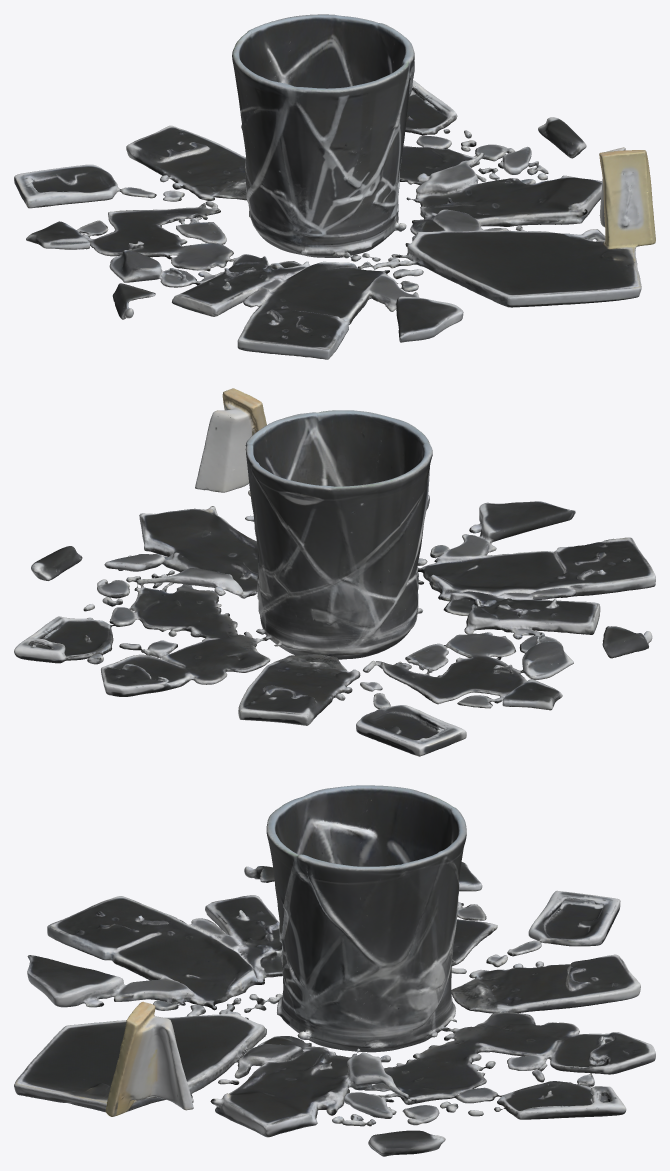
The model's file is Meshy_AI_Shattered_Glass_at_th_0711131555_texture.fbx.
3 views of the same model, one above another, from view 1: azimuth 30°, elevation 25°; view 2: azimuth 150°, elevation 25°; view 3: azimuth 270°, elevation 25° (orthographic). The views are drawn at different scales.
Parts seen in each view (by area): view 1: Mesh_0; view 2: Mesh_0; view 3: Mesh_0.
Part boxes in pixels (x1,y1,x2,y2): Mesh_0: (14,14,655,359); Mesh_0: (14,388,655,756); Mesh_0: (14,785,655,1156).
Bounding box in the file's own units: 200 × 65.23 × 193.
1 material, 1 textured.
